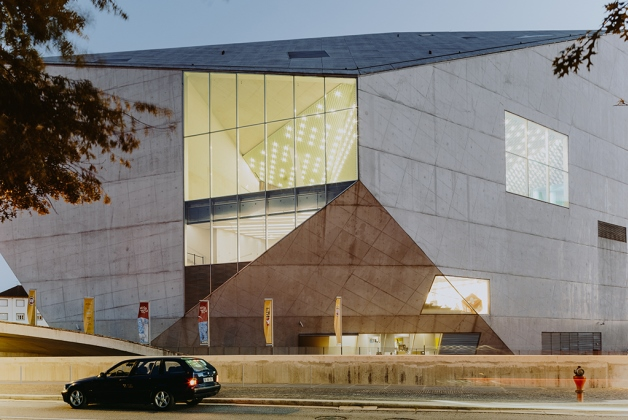musica: (2, 28, 625, 355)
